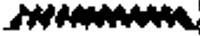Water: (2, 4, 198, 34)
